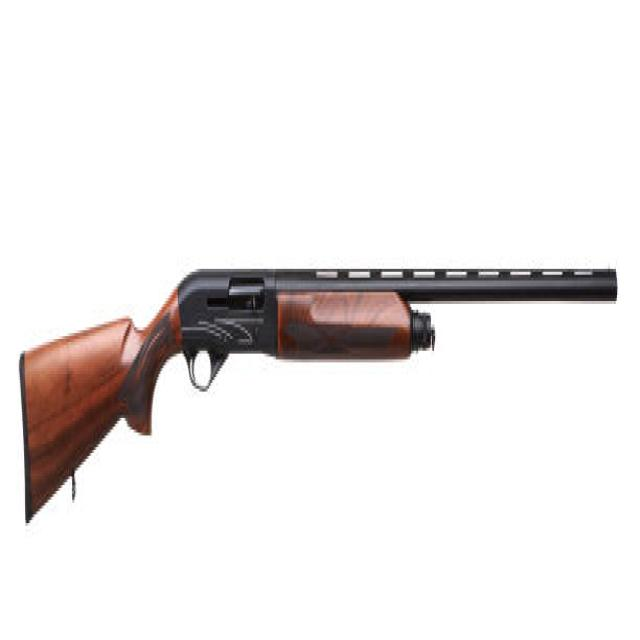rifle: (18, 243, 626, 547)
